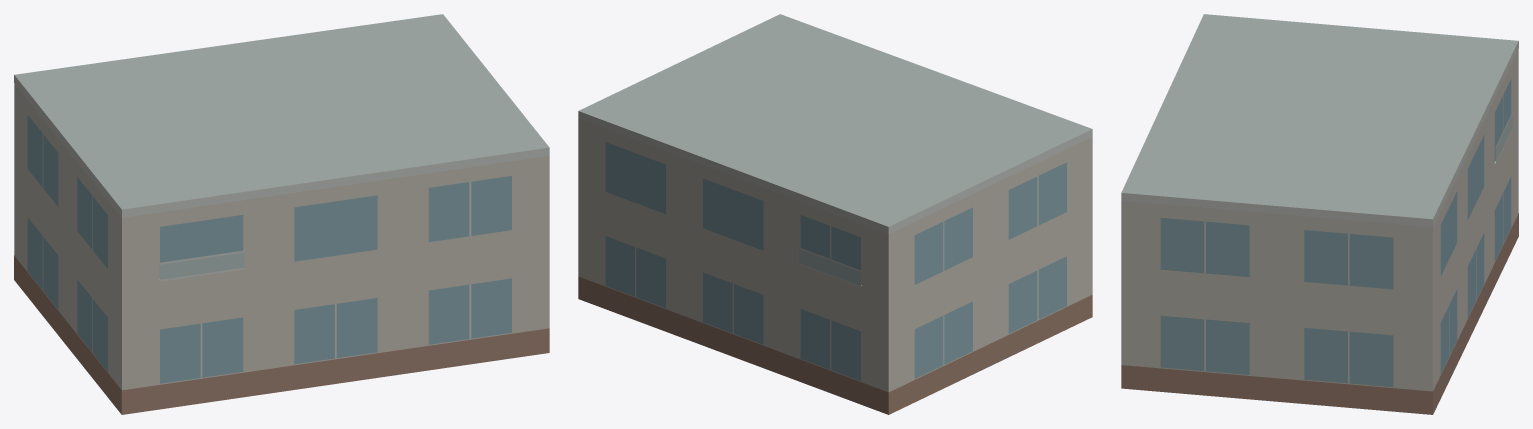
Rendered from survey-upis-32717579.glb.
The picture shows the model from 3 angles, left to right: view 1: azimuth 30°, elevation 25°; view 2: azimuth 150°, elevation 25°; view 3: azimuth 270°, elevation 25°; orthographic projection. The views are drawn at different scales.
Visible parts, largest first — view 1: survey-upis-32717579.tmp; view 2: survey-upis-32717579.tmp; view 3: survey-upis-32717579.tmp.
Boxes of the visible parts, x1,y1,x2,y2 form: survey-upis-32717579.tmp: (14,14,549,414); survey-upis-32717579.tmp: (578,14,1092,414); survey-upis-32717579.tmp: (1121,14,1518,414).
Size of the model in its own units: 13.74 by 6.1 by 11.24.
